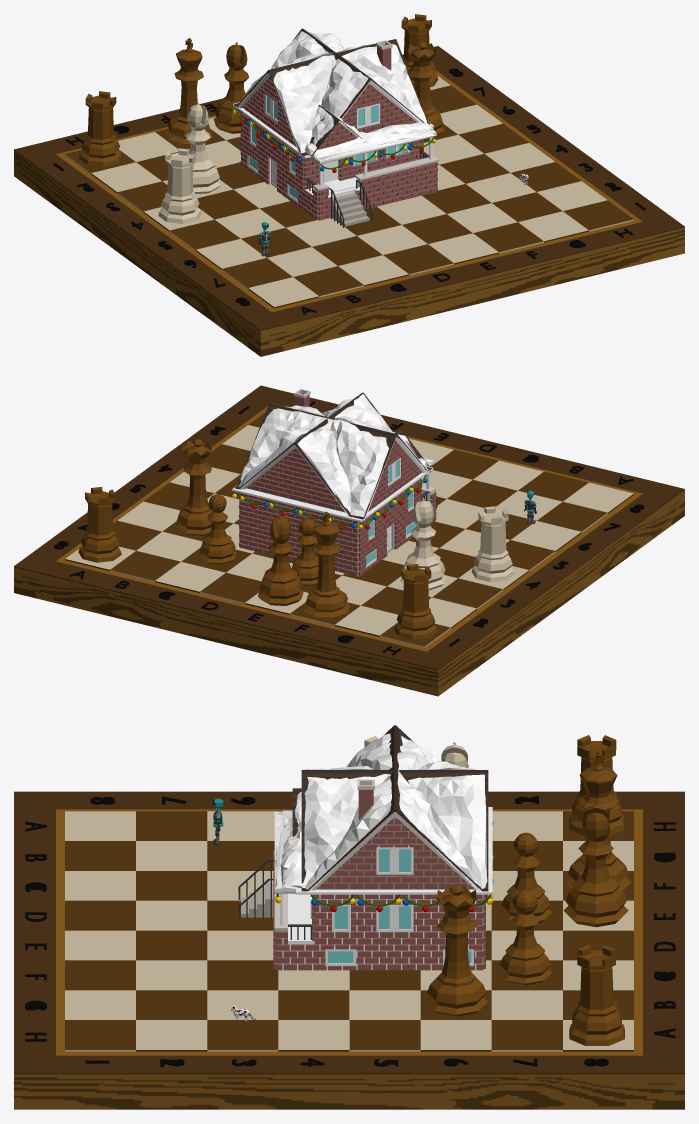
3 renders of one model, top to bottom at view 1: azimuth 30°, elevation 25°; view 2: azimuth 150°, elevation 25°; view 3: azimuth 270°, elevation 25°, orthographic. The views are drawn at different scales.
Visible parts, largest first — view 1: Cube.002, Cube.1419; view 2: Cube.002, Cube.1419; view 3: Cube.002, Cube.1419.
Boxes of the visible parts, x1=… form: Cube.002: x1=14, y1=14, x2=684, y2=356; Cube.1419: x1=232, y1=28, x2=439, y2=227; Cube.002: x1=14, y1=385, x2=684, y2=696; Cube.1419: x1=232, y1=388, x2=437, y2=576; Cube.002: x1=14, y1=735, x2=684, y2=1109; Cube.1419: x1=238, y1=725, x2=493, y2=970.
Bounding box in the file's own units: 3981 × 1484 × 4012.
39 materials, 2 textured.
